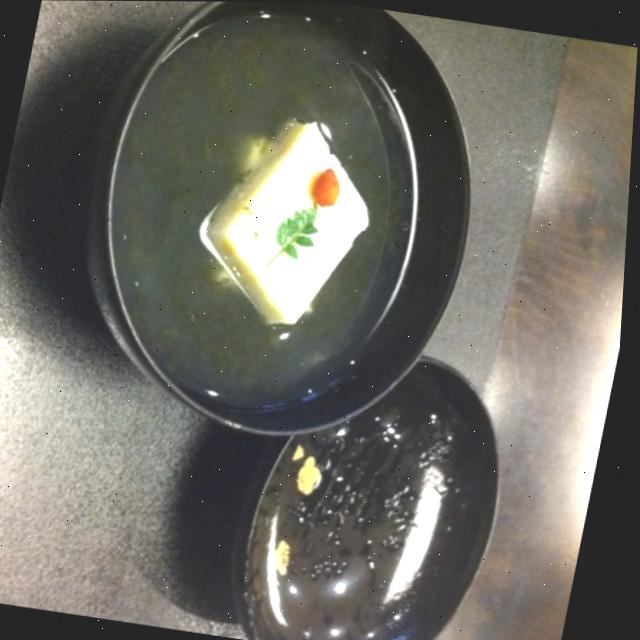汤锅炖物: (53, 0, 482, 436)
